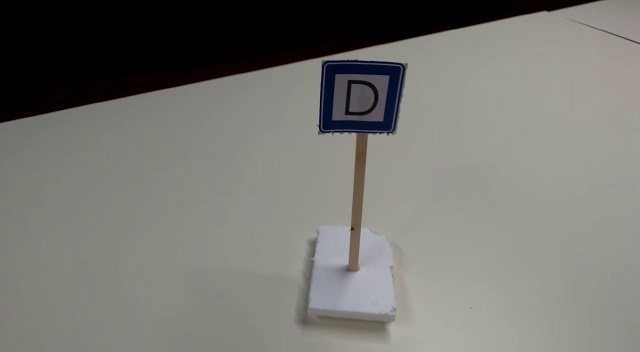durak: (320, 59, 398, 134)
